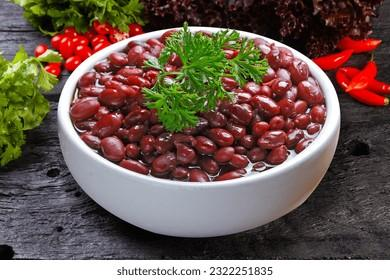rajma: (84, 39, 315, 174)
